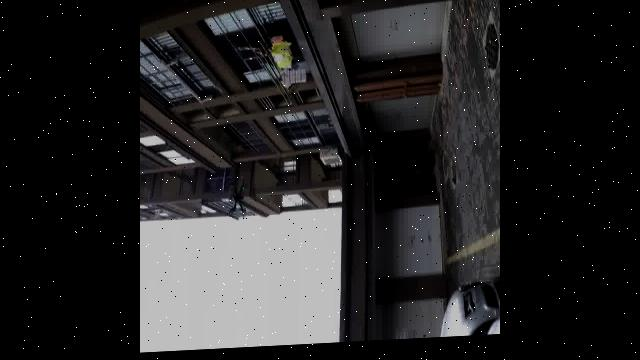drone: (225, 184, 251, 228)
